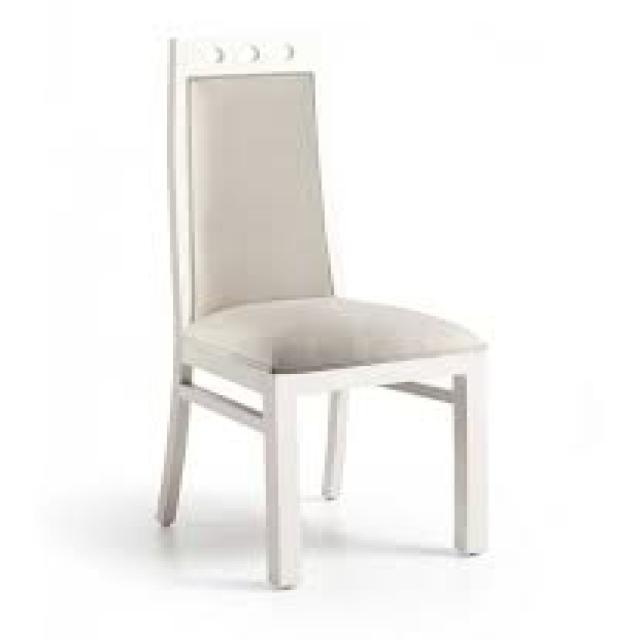bottle: (150, 35, 502, 590)
